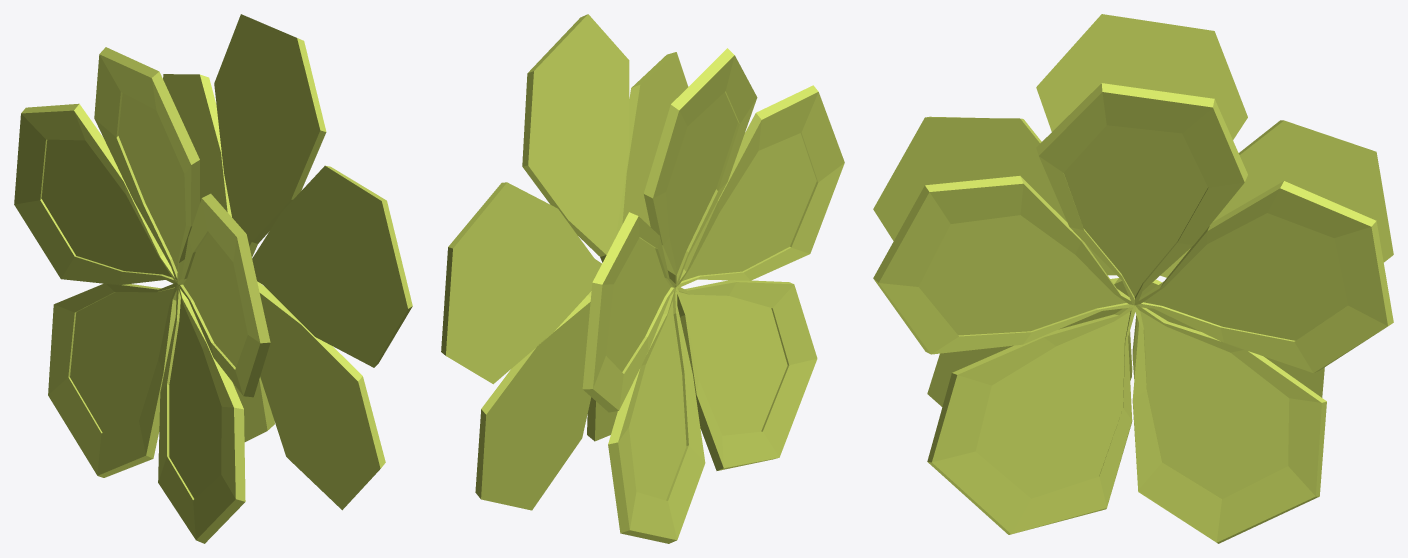
File: flower-4.fbx
The picture shows the model from 3 angles, left to right: view 1: azimuth 30°, elevation 25°; view 2: azimuth 150°, elevation 25°; view 3: azimuth 270°, elevation 25°; orthographic projection. The views are drawn at different scales.
Parts seen in each view (by area): view 1: 실린더.002; view 2: 실린더.002; view 3: 실린더.002.
Boxes of the visible parts, bbox=[...] form: 실린더.002: bbox=[14, 14, 412, 543]; 실린더.002: bbox=[441, 14, 844, 543]; 실린더.002: bbox=[873, 14, 1393, 543].
Size of the model in its own units: 291 by 819 by 837.
